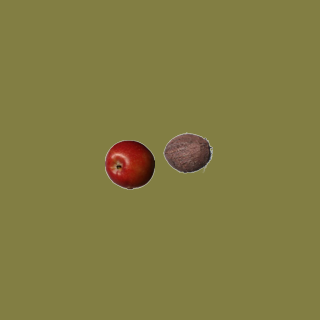Apple Braeburn: (104, 139, 154, 189)
Cocos: (162, 127, 212, 177)
